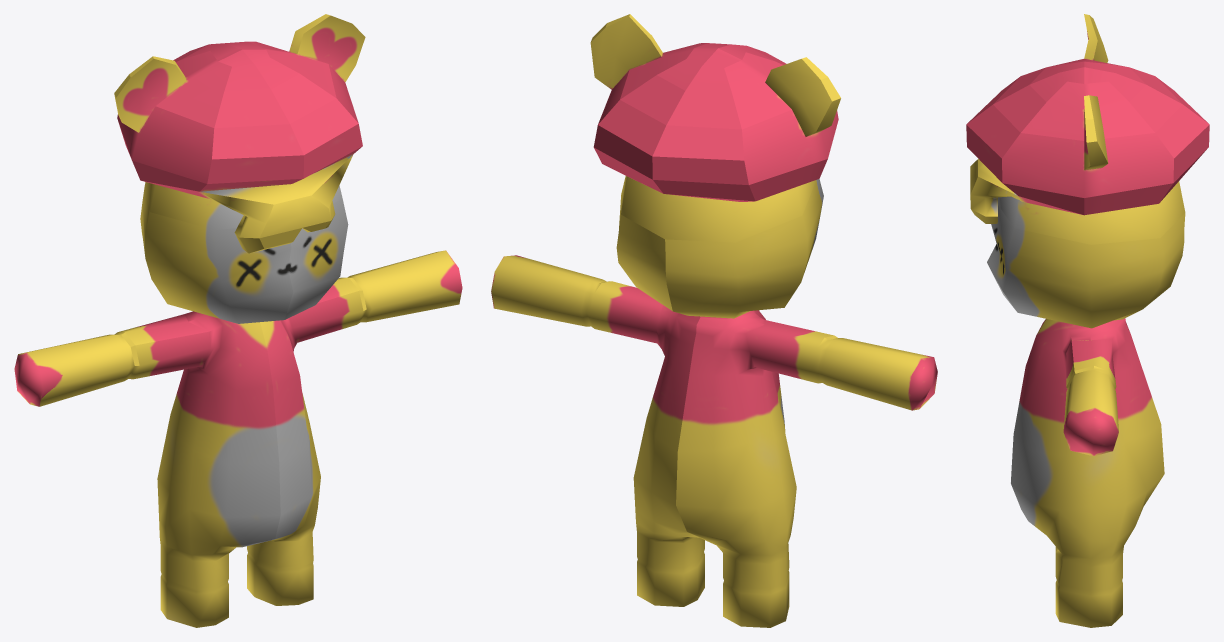
Rendered from Enemy3_Color_Fix.fbx.
3 views of the same model, side by side, from view 1: azimuth 30°, elevation 25°; view 2: azimuth 150°, elevation 25°; view 3: azimuth 270°, elevation 25° (orthographic). The views are drawn at different scales.
Visible parts, largest first — view 1: Body, Hat, Hair; view 2: Body, Hat; view 3: Body, Hat, Hair.
Part boxes in pixels (bbox=[...]): Body: bbox=[14, 182, 462, 627]; Hat: bbox=[114, 14, 365, 199]; Hair: bbox=[200, 154, 353, 253]; Body: bbox=[491, 176, 937, 627]; Hat: bbox=[590, 14, 840, 201]; Body: bbox=[987, 181, 1185, 627]; Hat: bbox=[966, 14, 1209, 215]; Hair: bbox=[970, 159, 1021, 223].
Size of the model in its own units: 8.67 by 10.72 by 4.38.
